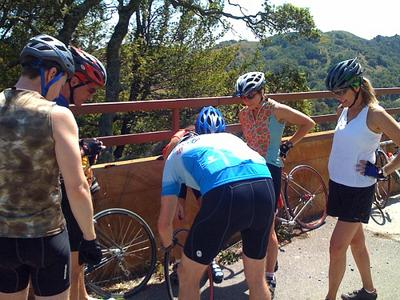person: (154, 129, 278, 300)
